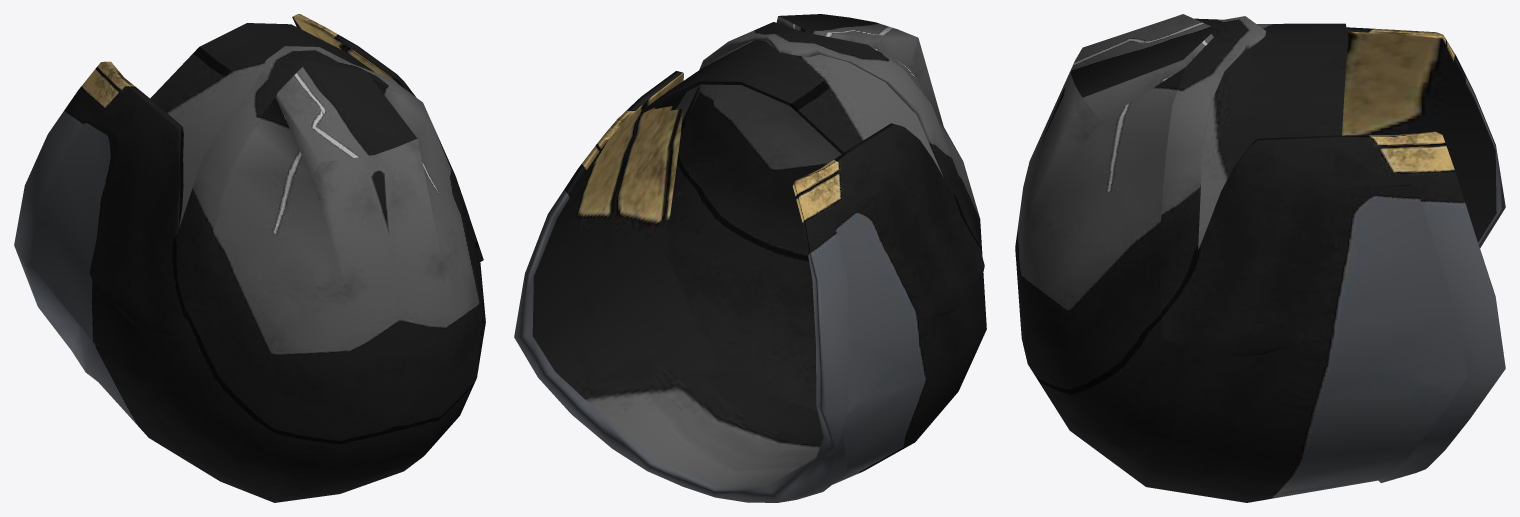
File: Headwear41.glb
The picture shows the model from 3 angles, left to right: view 1: azimuth 30°, elevation 25°; view 2: azimuth 150°, elevation 25°; view 3: azimuth 270°, elevation 25°; orthographic projection. The views are drawn at different scales.
Parts seen in each view (by area): view 1: Headwear41; view 2: Headwear41; view 3: Headwear41.
Part boxes in pixels (x1,y1,x2,y2): Headwear41: (14, 14, 485, 502); Headwear41: (514, 14, 986, 502); Headwear41: (1015, 14, 1505, 502).
Bounding box in the file's own units: 1.89 × 2.25 × 2.27.
2 materials, 2 textured.
